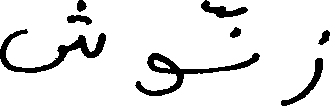ز: (280, 27, 328, 103)
ش: (0, 0, 106, 73)
ن: (225, 24, 260, 67)
و: (134, 50, 183, 95)
